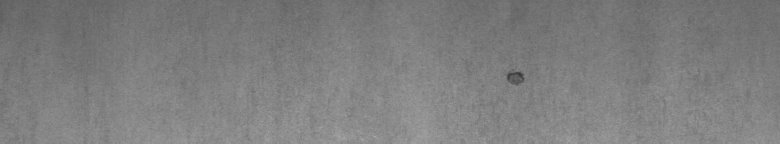fi: (504, 64, 528, 92)
